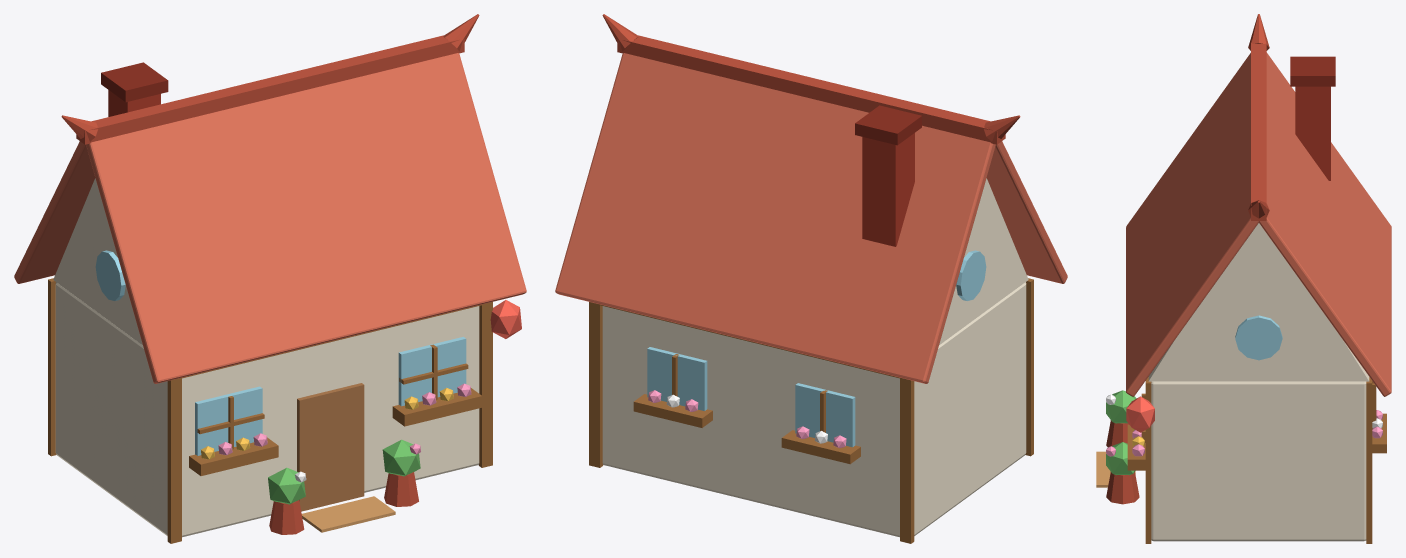
File: nha-nho.glb
3 views of the same model, side by side, from view 1: azimuth 30°, elevation 25°; view 2: azimuth 150°, elevation 25°; view 3: azimuth 270°, elevation 25° (orthographic). The views are drawn at different scales.
Visible parts, largest first — view 1: nha-nho-38, nha-nho-0, nha-nho-39, nha-nho-7, nha-nho-36, nha-nho-37, nha-nho-16, nha-nho-8, nha-nho-1, nha-nho-2, nha-nho-50, nha-nho-53 (+10 smaller); view 2: nha-nho-37, nha-nho-0, nha-nho-39, nha-nho-36, nha-nho-52, nha-nho-38, nha-nho-30, nha-nho-24, nha-nho-4, nha-nho-5, nha-nho-53, nha-nho-1 (+3 smaller); view 3: nha-nho-0, nha-nho-38, nha-nho-37, nha-nho-36, nha-nho-39, nha-nho-52, nha-nho-43, nha-nho-53, nha-nho-5, nha-nho-2, nha-nho-47, nha-nho-51 (+6 smaller).
Boxes of the visible parts, x1,y1,x2,y2 form: nha-nho-38: (86,53,526,383); nha-nho-0: (55,282,479,537); nha-nho-39: (76,35,464,144); nha-nho-7: (297,383,364,511); nha-nho-36: (53,178,142,345); nha-nho-37: (14,141,95,283); nha-nho-16: (398,337,466,406); nha-nho-8: (195,386,262,455); nha-nho-1: (167,378,181,543); nha-nho-2: (478,302,492,467); nha-nho-50: (301,496,395,532); nha-nho-53: (101,62,168,102); nha-nho-37: (555,53,995,383); nha-nho-0: (602,282,1026,537); nha-nho-39: (617,35,1005,144); nha-nho-36: (939,178,1028,345); nha-nho-52: (862,133,914,246); nha-nho-38: (986,141,1067,283); nha-nho-30: (647,347,707,410); nha-nho-24: (795,383,855,447); nha-nho-4: (900,378,914,543); nha-nho-5: (589,302,603,467); nha-nho-53: (855,105,921,145); nha-nho-1: (1025,278,1033,456); nha-nho-0: (1151,381,1366,541); nha-nho-38: (1126,53,1258,396); nha-nho-37: (1259,52,1391,396); nha-nho-36: (1148,223,1369,381); nha-nho-39: (1251,40,1266,220); nha-nho-52: (1295,86,1330,180); nha-nho-43: (1235,315,1282,360); nha-nho-53: (1290,56,1335,86); nha-nho-5: (1366,378,1372,543); nha-nho-2: (1145,378,1151,543); nha-nho-47: (1106,472,1139,504); nha-nho-51: (1126,396,1154,432).
Bounding box in the file's own units: 4.51 × 4.08 × 3.
